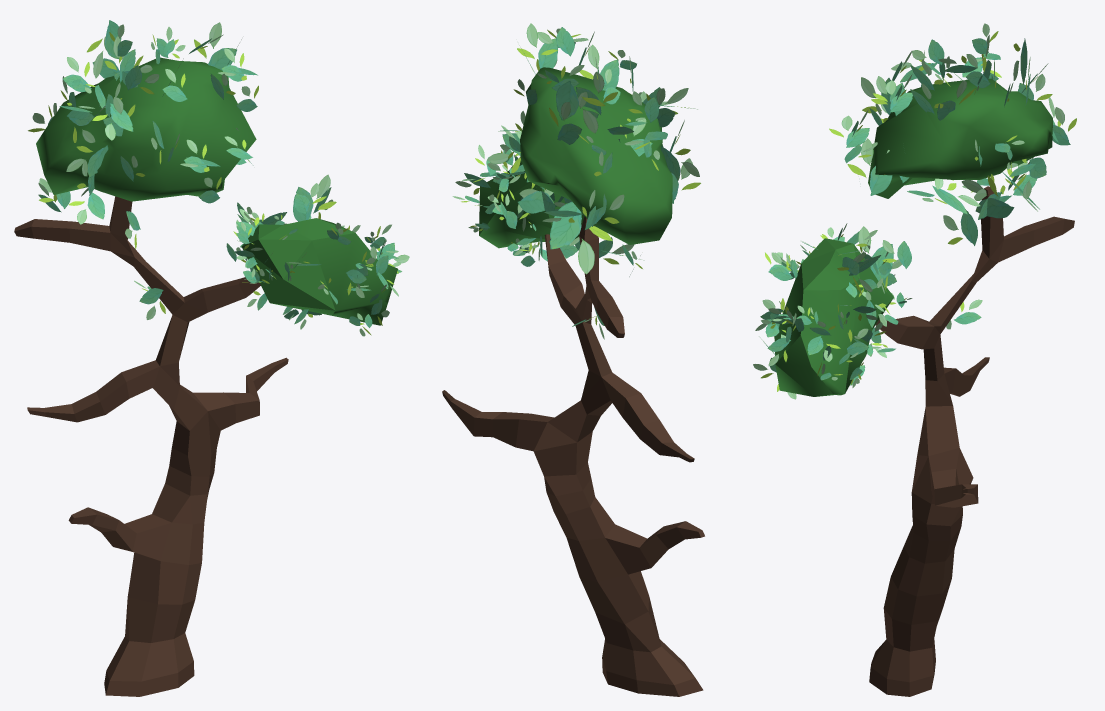
File: tree_02_textured.fbx
The picture shows the model from 3 angles, left to right: view 1: azimuth 30°, elevation 25°; view 2: azimuth 150°, elevation 25°; view 3: azimuth 270°, elevation 25°; orthographic projection. The views are drawn at different scales.
Visible parts, largest first — view 1: Temp_Scene_Refine:polySurface2020, pPlatonic3, leaves_combined, pPlatonic2; view 2: Temp_Scene_Refine:polySurface2020, leaves_combined, pPlatonic3, pPlatonic2; view 3: Temp_Scene_Refine:polySurface2020, leaves_combined, pPlatonic3, pPlatonic2.
Part boxes in pixels (box(x1,y1,x2,y2)): Temp_Scene_Refine:polySurface2020: box(14, 196, 288, 696); pPlatonic3: box(36, 57, 256, 201); leaves_combined: box(28, 20, 409, 336); pPlatonic2: box(241, 218, 397, 325); Temp_Scene_Refine:polySurface2020: box(442, 216, 704, 696); leaves_combined: box(452, 23, 700, 339); pPlatonic3: box(520, 67, 672, 244); pPlatonic2: box(479, 157, 584, 248); Temp_Scene_Refine:polySurface2020: box(869, 186, 1074, 696); leaves_combined: box(753, 23, 1076, 399); pPlatonic3: box(868, 78, 1052, 198); pPlatonic2: box(774, 238, 893, 396).
Size of the model in its own units: 3.6 by 7.05 by 3.33.
3 materials, 1 textured.
